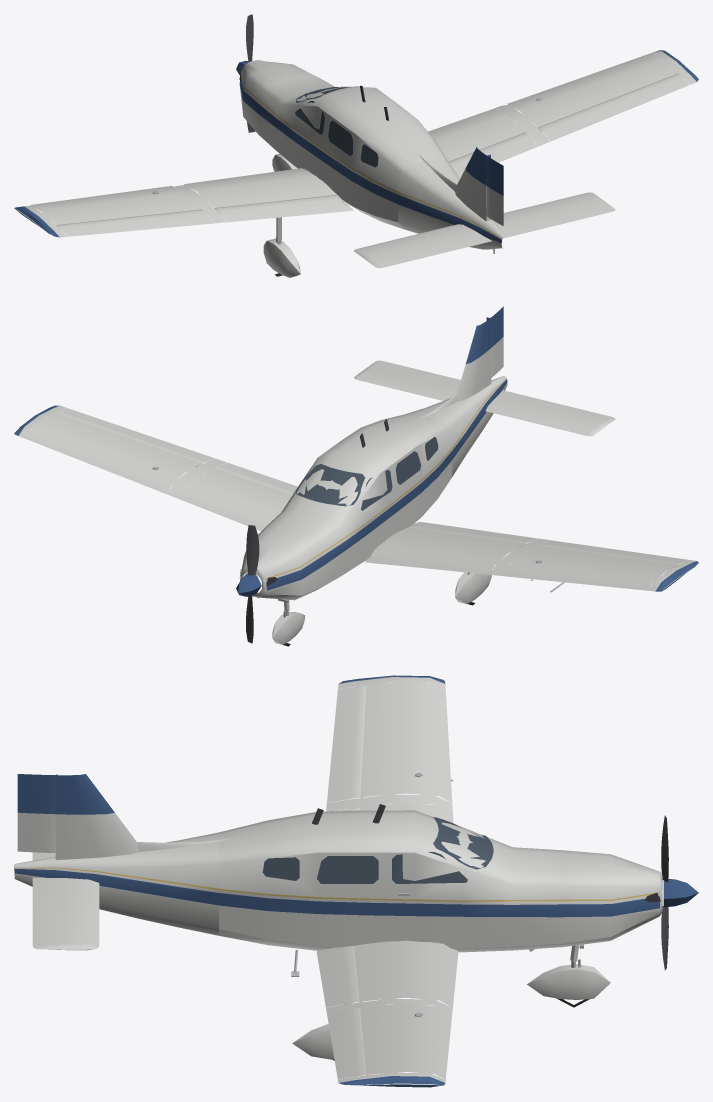
Rendered from archer-far.glb.
3 views of the same model, one above another, from view 1: azimuth 30°, elevation 25°; view 2: azimuth 150°, elevation 25°; view 3: azimuth 270°, elevation 25° (orthographic). The views are drawn at different scales.
Parts seen in each view (by area): view 1: body, cabin, stab, ailR, ailL, flapL, flapR, gearL, rud, prop; view 2: body, cabin, stab, ailR, prop, ailL, flapL, gearN, gearL, rud, flapR; view 3: cabin, body, stab, ailL, rud, gearN, ailR, flapR, prop, gearR.
Part boxes in pixels (x1,y1,x2,y2): body: (14,50,698,253); cabin: (239,60,447,229); stab: (354,192,615,268); ailR: (538,73,689,141); ailL: (57,210,214,236); flapL: (215,195,350,222); flapR: (449,132,538,178); gearL: (263,217,300,277); rud: (486,156,503,225); prop: (236,14,255,132); body: (14,318,698,592); cabin: (239,414,453,600); stab: (354,360,615,436); ailR: (57,408,214,466); prop: (236,525,261,643); ailL: (538,540,688,566); flapL: (409,522,537,546); gearN: (272,599,305,646); gearL: (455,571,491,605); rud: (486,306,503,377); flapR: (215,463,297,494); cabin: (219,804,662,952); body: (14,675,458,1087); stab: (32,852,99,950); ailL: (327,685,366,802); rud: (17,774,57,852); gearN: (527,944,610,1007); ailR: (327,1008,367,1079); flapR: (317,946,361,1007); prop: (661,815,698,969); gearR: (292,1003,351,1060).
Size of the model in its own units: 10.82 by 2.89 by 7.72.
